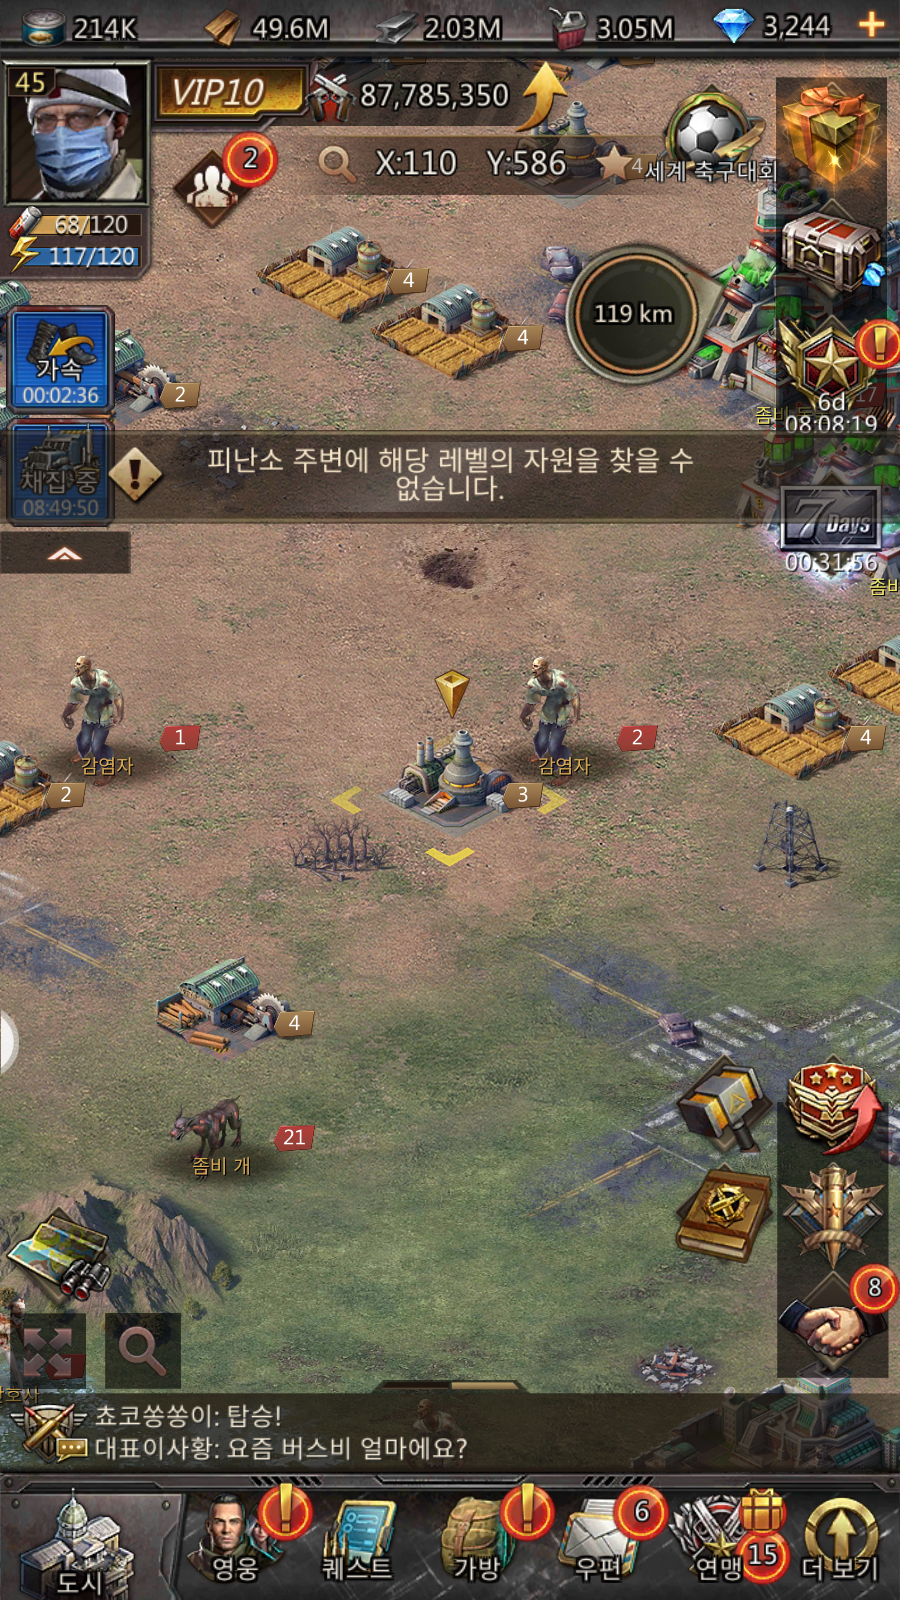city: (9, 1495, 179, 1600)
empty_steel: (309, 662, 598, 876)
not_found_rss: (102, 427, 724, 525)
open_panel: (100, 1307, 189, 1389)
troops_cnt_2: (164, 125, 287, 244)
